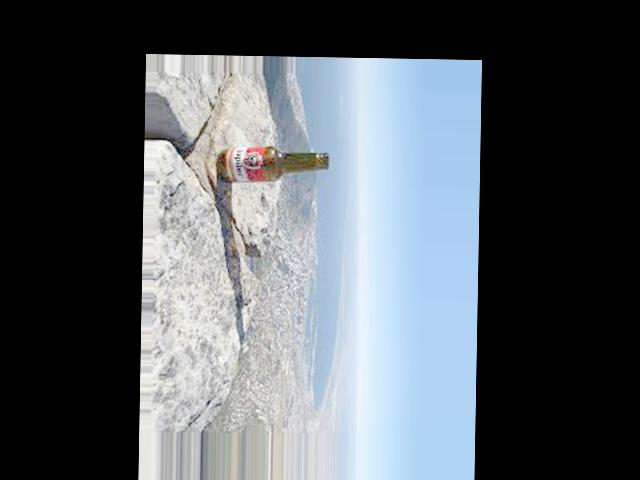beer: (220, 144, 330, 184)
